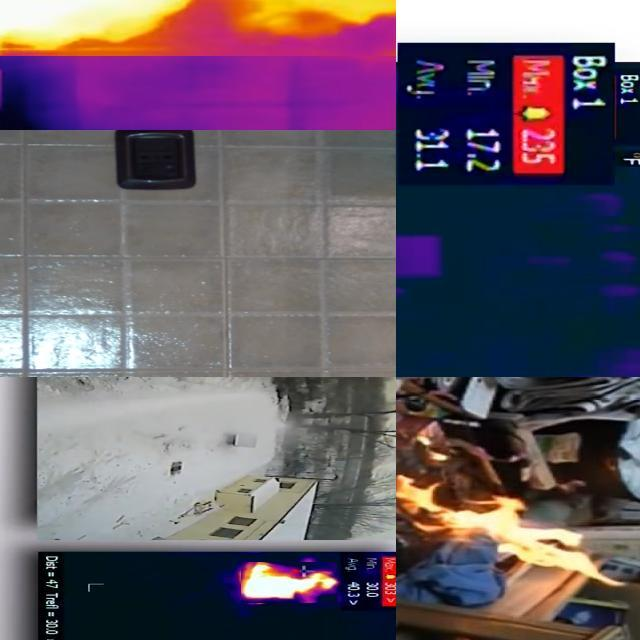fire: (1, 1, 397, 57), (241, 563, 337, 604)
